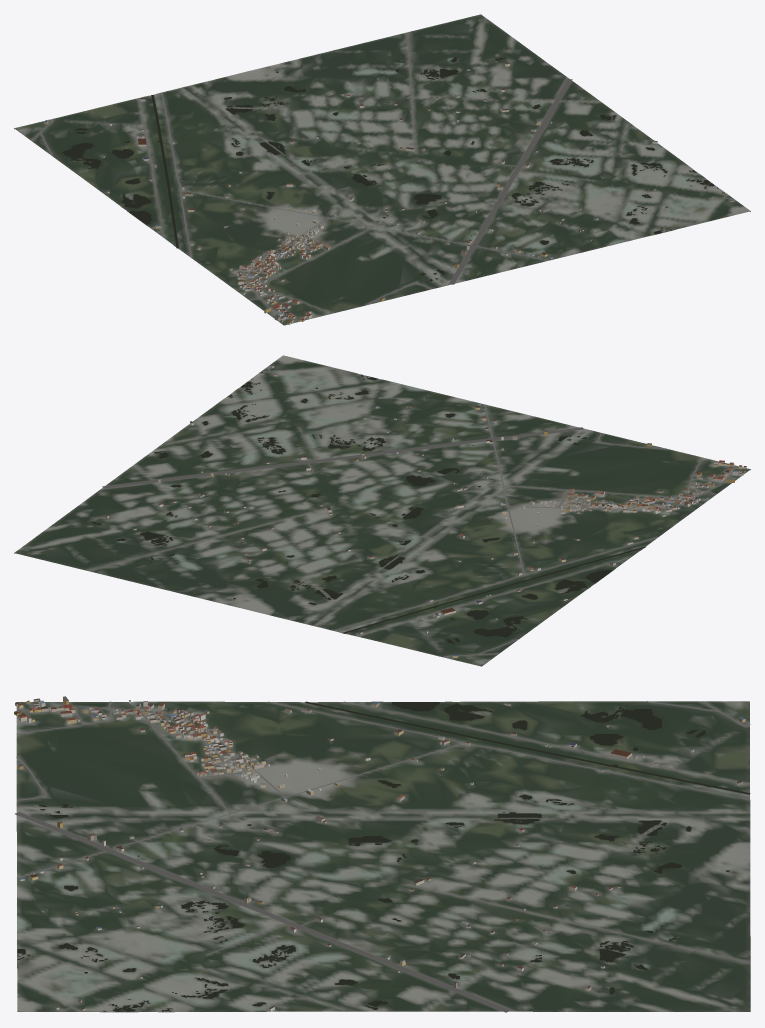
3 views of the same model, one above another, from view 1: azimuth 30°, elevation 25°; view 2: azimuth 150°, elevation 25°; view 3: azimuth 270°, elevation 25° (orthographic). The views are drawn at different scales.
Parts seen in each view (by area): view 1: ground, water, buildings, roads; view 2: ground, water, buildings, roads; view 3: ground, water, buildings, roads.
Part boxes in pixels (x1,y1,x2,y2): ground: (14, 14, 750, 325); water: (62, 57, 718, 281); buildings: (44, 63, 733, 324); roads: (31, 32, 733, 321); ground: (14, 355, 750, 666); water: (91, 374, 645, 643); buildings: (104, 365, 746, 658); roads: (87, 367, 735, 658); ground: (16, 701, 750, 1012); water: (17, 701, 750, 1011); buildings: (14, 696, 745, 1011); roads: (15, 701, 750, 1012).
Size of the model in its own units: 1412 by 14.8 by 1409.
